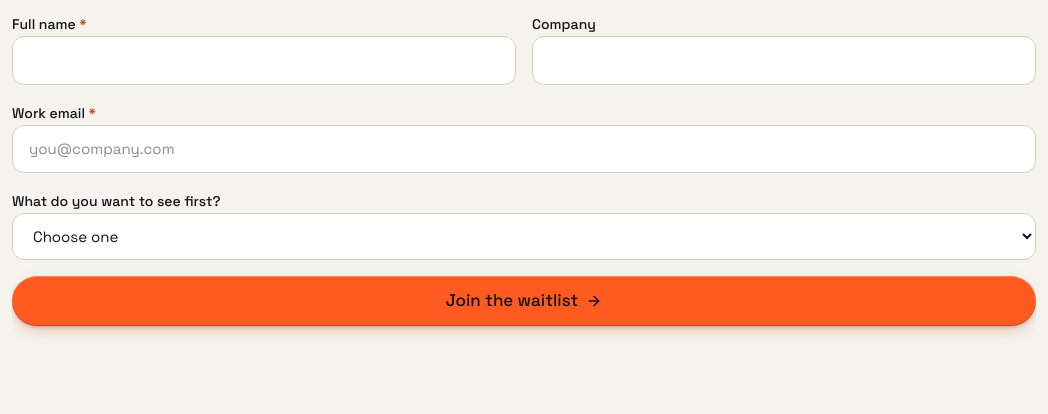
the waitlist form › says so when the signup does not go through
The width and height of the screenshot is (1048, 414).
Type "Maya Ross" into the field labelled "Full name *" at (264, 60), box [12, 36, 516, 84]
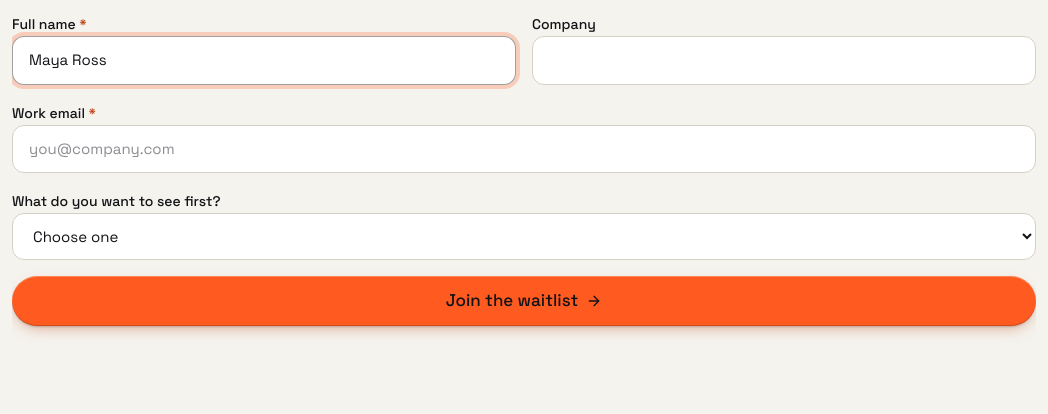
Type "Example Co" into the field labelled "Company" at (784, 60), box [532, 36, 1036, 84]
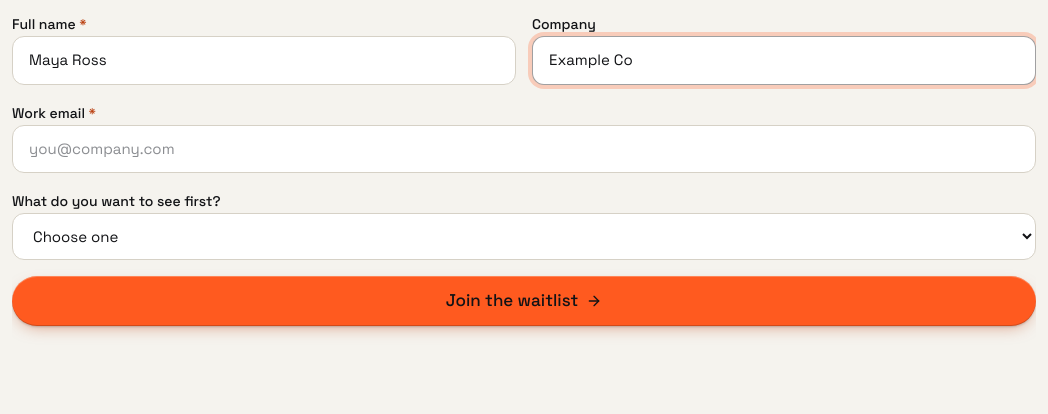
Type "maya@example.com" into the field labelled "Work email *" at (524, 149), box [12, 124, 1036, 173]
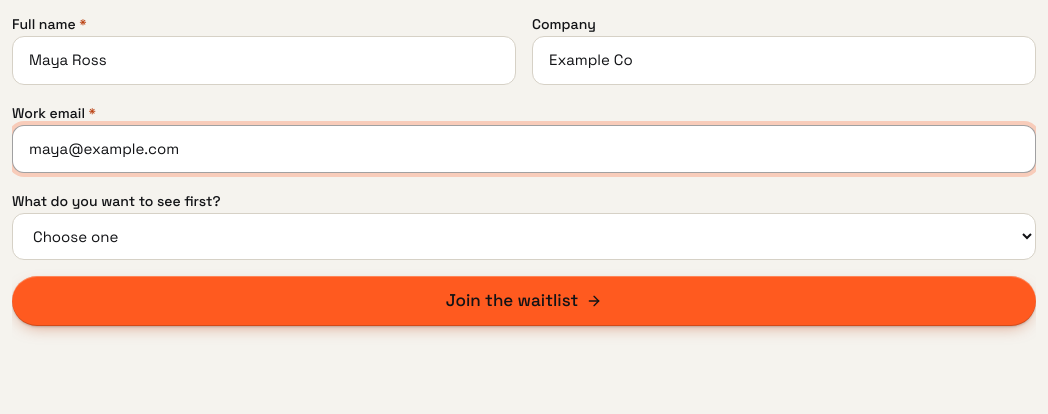
Select "Live guardrails" in the dropdown labelled "What do you want to see first?" at (524, 236), box [12, 213, 1036, 260]
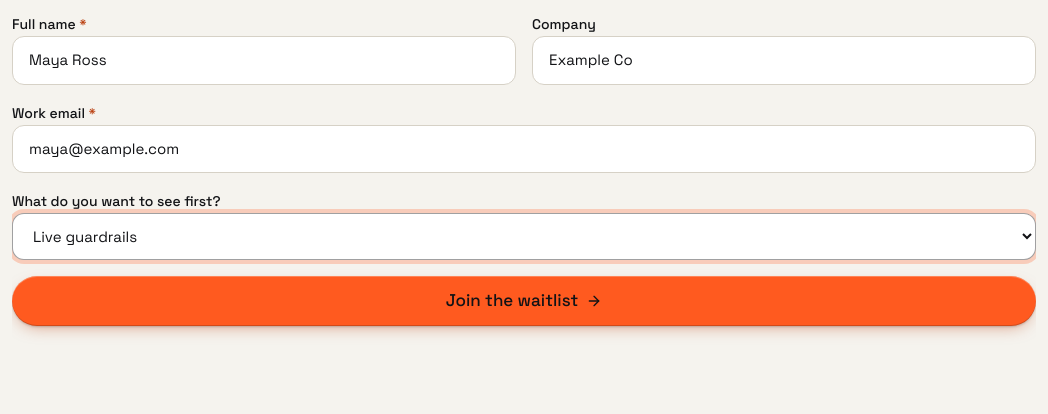
Click the button "Join the waitlist" at (524, 301), box [12, 276, 1036, 326]
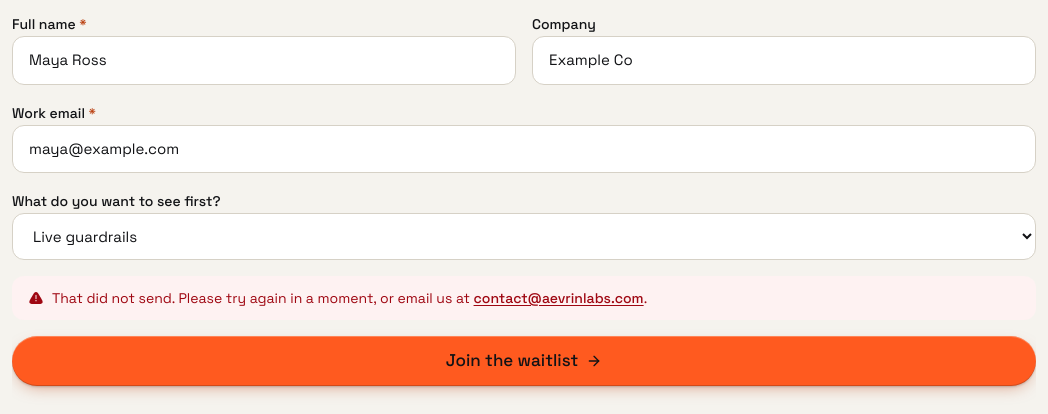
Expected: the message shows "That did not send", [52, 289, 470, 307]
